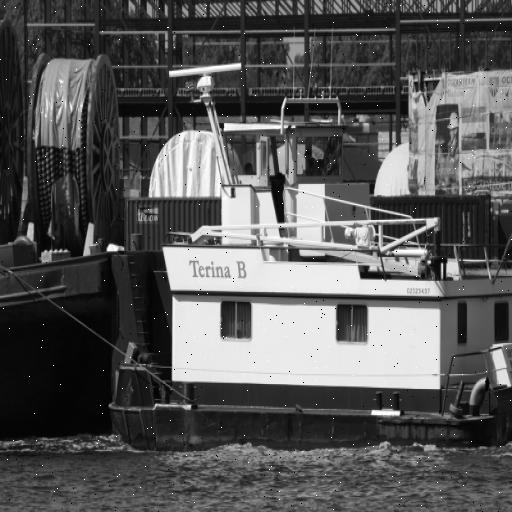tugboat: (104, 57, 512, 455)
